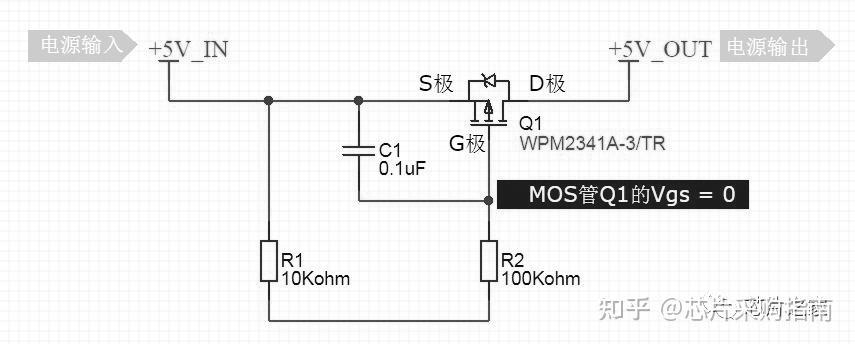cap1: (339, 141, 377, 161)
diode: (479, 69, 501, 90)
mos: (471, 96, 508, 131)
res1: (255, 237, 280, 285), (477, 236, 500, 284)
